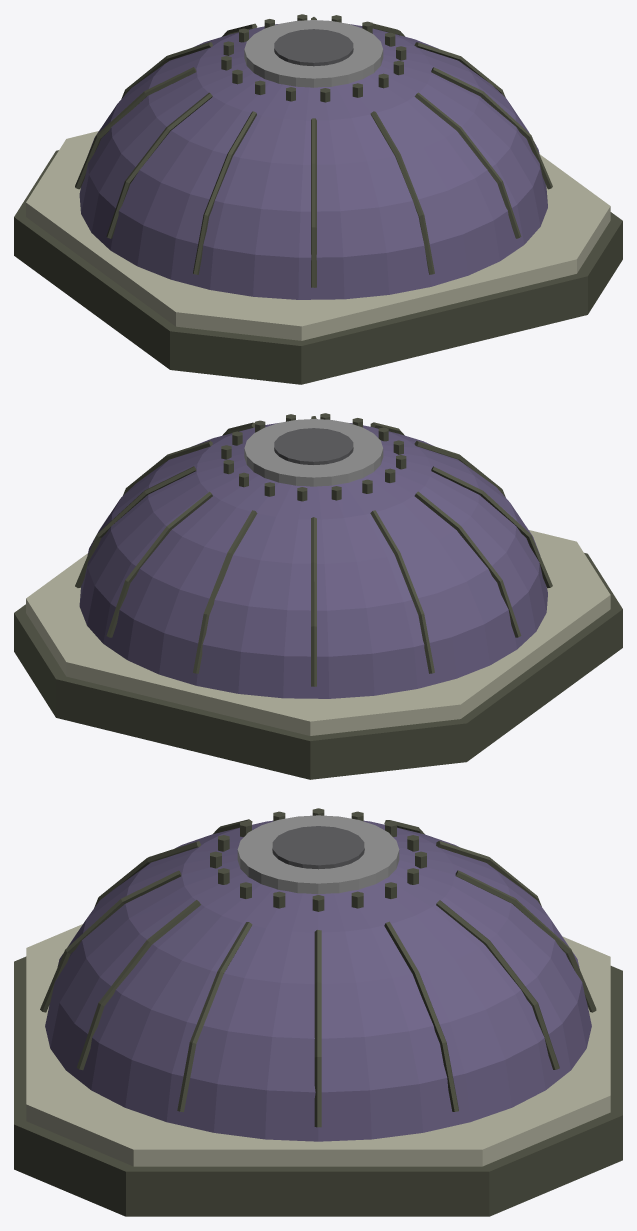
The model's file is vge_mech_astrofuel_node.obj.
3 renders of one model, top to bottom at view 1: azimuth 30°, elevation 25°; view 2: azimuth 150°, elevation 25°; view 3: azimuth 270°, elevation 25°, orthographic. The views are drawn at different scales.
Visible parts, largest first — view 1: vge_mech_astrofuel_node_2, vge_mech_astrofuel_node_0, vge_mech_astrofuel_node_1, vge_mech_astrofuel_node_15, vge_mech_astrofuel_node_16, vge_mech_astrofuel_node_13, vge_mech_astrofuel_node_10, vge_mech_astrofuel_node_12, vge_mech_astrofuel_node_9, vge_mech_astrofuel_node_14, vge_mech_astrofuel_node_8, vge_mech_astrofuel_node_11 (+2 smaller); view 2: vge_mech_astrofuel_node_2, vge_mech_astrofuel_node_0, vge_mech_astrofuel_node_1, vge_mech_astrofuel_node_15, vge_mech_astrofuel_node_16, vge_mech_astrofuel_node_8, vge_mech_astrofuel_node_6, vge_mech_astrofuel_node_9, vge_mech_astrofuel_node_5, vge_mech_astrofuel_node_7, vge_mech_astrofuel_node_10, vge_mech_astrofuel_node_4 (+2 smaller); view 3: vge_mech_astrofuel_node_2, vge_mech_astrofuel_node_0, vge_mech_astrofuel_node_1, vge_mech_astrofuel_node_15, vge_mech_astrofuel_node_16, vge_mech_astrofuel_node_3, vge_mech_astrofuel_node_13, vge_mech_astrofuel_node_14, vge_mech_astrofuel_node_4, vge_mech_astrofuel_node_5, vge_mech_astrofuel_node_12, vge_mech_astrofuel_node_6 (+2 smaller).
Part boxes in pixels (box(x1,y1,x2,y2)): vge_mech_astrofuel_node_2: box(79, 24, 547, 299); vge_mech_astrofuel_node_0: box(14, 150, 622, 384); vge_mech_astrofuel_node_1: box(26, 131, 610, 340); vge_mech_astrofuel_node_15: box(244, 20, 383, 87); vge_mech_astrofuel_node_16: box(274, 29, 353, 66); vge_mech_astrofuel_node_13: box(414, 92, 521, 238); vge_mech_astrofuel_node_10: box(193, 111, 256, 274); vge_mech_astrofuel_node_12: box(370, 111, 434, 274); vge_mech_astrofuel_node_9: box(106, 92, 212, 238); vge_mech_astrofuel_node_14: box(431, 67, 552, 189); vge_mech_astrofuel_node_8: box(75, 67, 196, 189); vge_mech_astrofuel_node_11: box(311, 118, 316, 287); vge_mech_astrofuel_node_2: box(79, 423, 547, 698); vge_mech_astrofuel_node_0: box(14, 553, 622, 779); vge_mech_astrofuel_node_1: box(26, 530, 610, 735); vge_mech_astrofuel_node_15: box(244, 419, 383, 486); vge_mech_astrofuel_node_16: box(274, 428, 353, 464); vge_mech_astrofuel_node_8: box(370, 510, 434, 673); vge_mech_astrofuel_node_6: box(193, 510, 257, 673); vge_mech_astrofuel_node_9: box(414, 491, 521, 637); vge_mech_astrofuel_node_5: box(106, 491, 212, 637); vge_mech_astrofuel_node_7: box(311, 517, 316, 686); vge_mech_astrofuel_node_10: box(431, 466, 552, 588); vge_mech_astrofuel_node_4: box(75, 466, 196, 587); vge_mech_astrofuel_node_2: box(45, 820, 591, 1141); vge_mech_astrofuel_node_0: box(14, 956, 622, 1216); vge_mech_astrofuel_node_1: box(26, 924, 610, 1166); vge_mech_astrofuel_node_15: box(237, 815, 399, 894); vge_mech_astrofuel_node_16: box(272, 826, 364, 869); vge_mech_astrofuel_node_3: box(314, 929, 321, 1127); vge_mech_astrofuel_node_13: box(76, 900, 200, 1070); vge_mech_astrofuel_node_14: box(177, 922, 252, 1112); vge_mech_astrofuel_node_4: box(384, 921, 458, 1111); vge_mech_astrofuel_node_5: box(436, 900, 559, 1069); vge_mech_astrofuel_node_12: box(40, 870, 181, 1012); vge_mech_astrofuel_node_6: box(455, 870, 596, 1012).
Bounding box in the file's own units: 1.96 × 0.8609 × 1.96.
